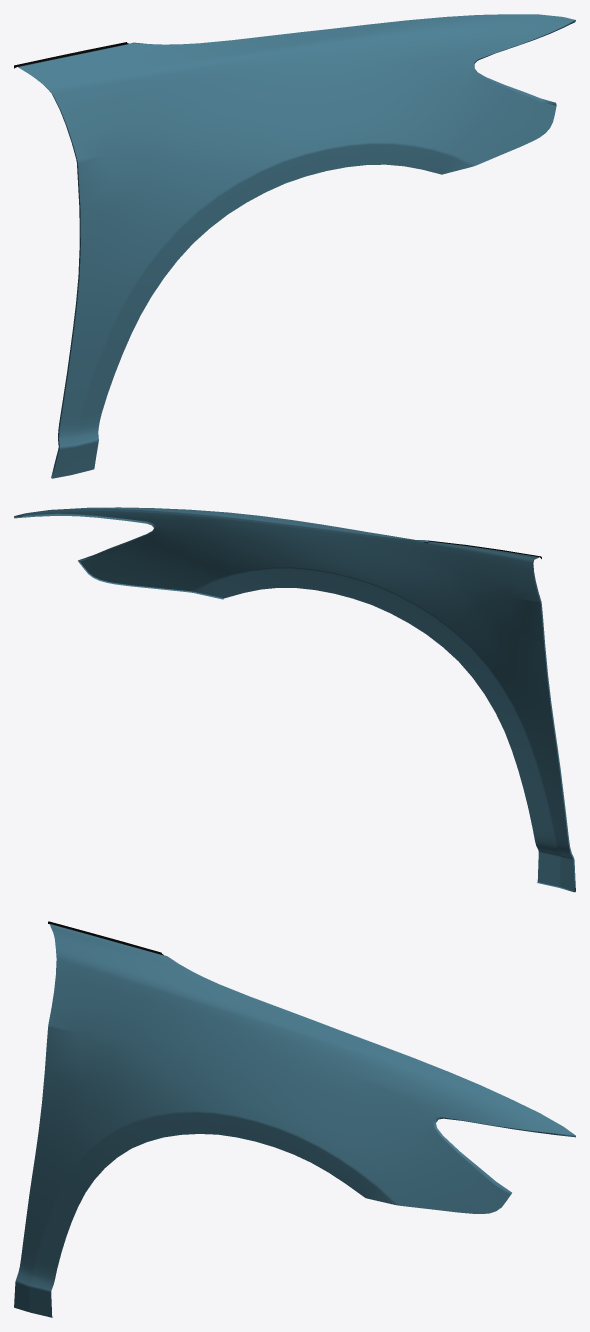
3 views of the same model, one above another, from view 1: azimuth 30°, elevation 25°; view 2: azimuth 150°, elevation 25°; view 3: azimuth 330°, elevation 25° (orthographic). The views are drawn at different scales.
Visible parts, largest first — view 1: Y175_18_141B_R_1_DaS_Y175_18_141B_R, Y175_18_141B_R_1_DaS_Y175_18_141B_R_E; view 2: Y175_18_141B_R_1_DaS_Y175_18_141B_R, Y175_18_141B_R_1_DaS_Y175_18_141B_R_E; view 3: Y175_18_141B_R_1_DaS_Y175_18_141B_R, Y175_18_141B_R_1_DaS_Y175_18_141B_R_E.
Part boxes in pixels (x1,y1,x2,y2): Y175_18_141B_R_1_DaS_Y175_18_141B_R: [18, 14, 574, 478]; Y175_18_141B_R_1_DaS_Y175_18_141B_R_E: [18, 20, 575, 478]; Y175_18_141B_R_1_DaS_Y175_18_141B_R: [30, 507, 574, 891]; Y175_18_141B_R_1_DaS_Y175_18_141B_R_E: [14, 508, 575, 892]; Y175_18_141B_R_1_DaS_Y175_18_141B_R: [14, 924, 574, 1317]; Y175_18_141B_R_1_DaS_Y175_18_141B_R_E: [50, 923, 575, 1317].
Size of the model in its own units: 107 by 69.82 by 16.35.
